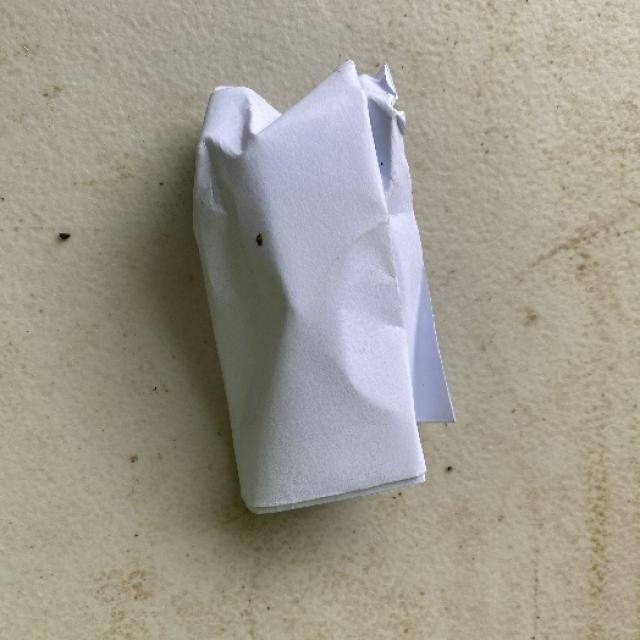paper: (189, 59, 447, 514)
